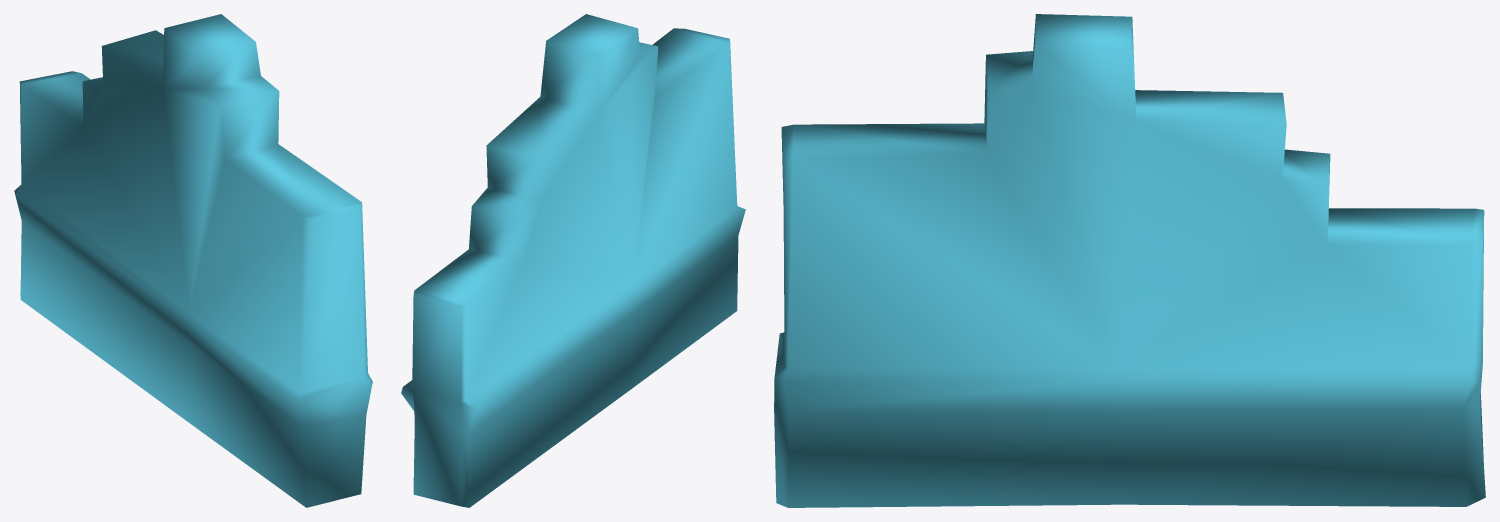
File: wall_02.FBX
3 views of the same model, side by side, from view 1: azimuth 30°, elevation 25°; view 2: azimuth 150°, elevation 25°; view 3: azimuth 270°, elevation 25° (orthographic). The views are drawn at different scales.
Parts seen in each view (by area): view 1: wall_02; view 2: wall_02; view 3: wall_02.
Boxes of the visible parts, bbox=[...] form: wall_02: bbox=[14, 14, 372, 507]; wall_02: bbox=[401, 14, 745, 507]; wall_02: bbox=[774, 14, 1485, 507].
Bounding box in the file's own units: 18.33 × 83.57 × 117.
